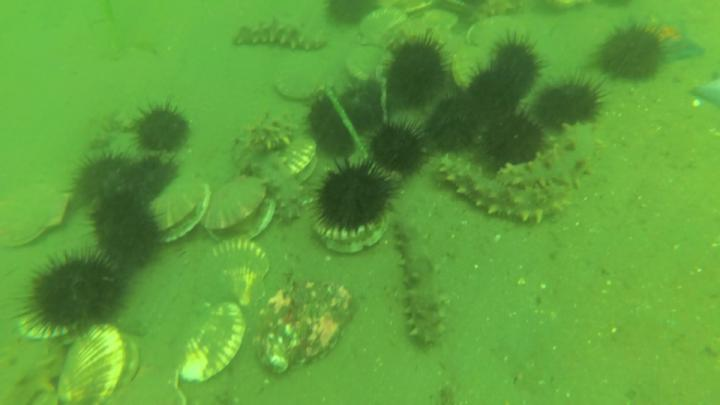echinus: (12, 253, 134, 340), (313, 157, 402, 235), (89, 199, 165, 270), (387, 36, 451, 107), (595, 23, 670, 83), (361, 119, 432, 182), (533, 70, 605, 129), (129, 95, 195, 157), (70, 149, 133, 208), (488, 31, 544, 97), (485, 112, 547, 170), (430, 91, 479, 153), (122, 156, 179, 209), (467, 65, 522, 118), (310, 98, 357, 159), (340, 83, 387, 132), (322, 1, 381, 29)
holothurian: (440, 155, 577, 224), (392, 221, 451, 352), (202, 177, 278, 243), (497, 142, 598, 187), (151, 175, 211, 249), (249, 152, 309, 220), (232, 19, 329, 54), (1, 340, 64, 382), (243, 110, 302, 151), (346, 44, 397, 83)
scallop: (255, 279, 361, 378), (56, 327, 140, 405), (184, 303, 249, 388), (1, 184, 71, 250), (209, 240, 274, 307), (308, 215, 392, 256), (103, 369, 190, 405), (466, 15, 526, 52), (399, 8, 464, 42), (275, 68, 338, 102), (452, 44, 495, 92), (282, 132, 319, 185), (16, 310, 76, 340), (361, 8, 412, 39)
starfish: (627, 14, 707, 66)
